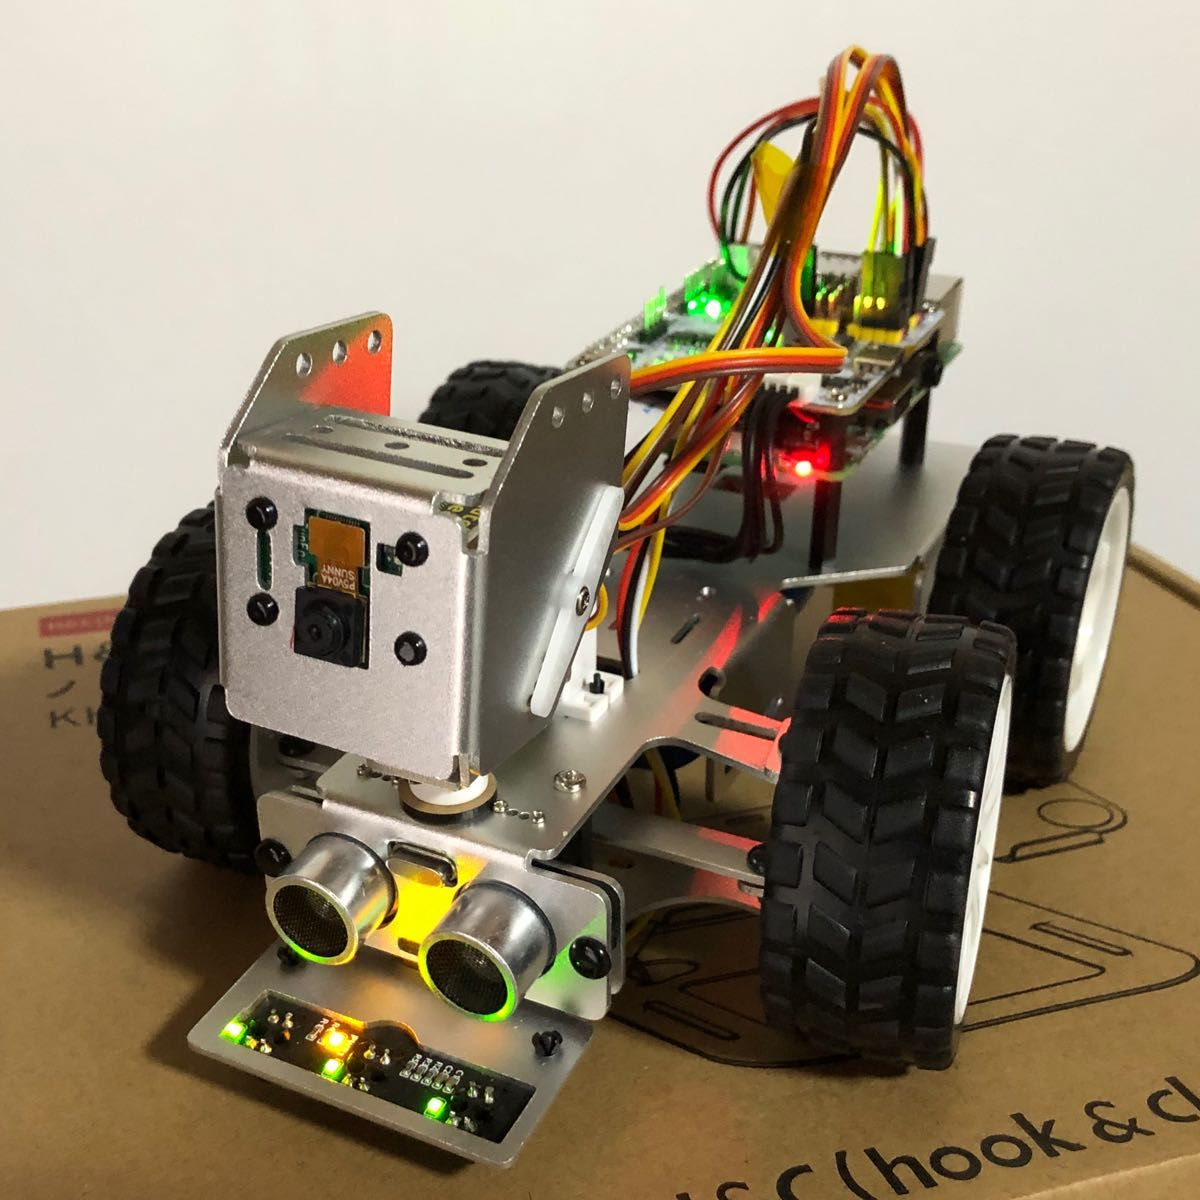vehicle: (88, 46, 1138, 1171)
